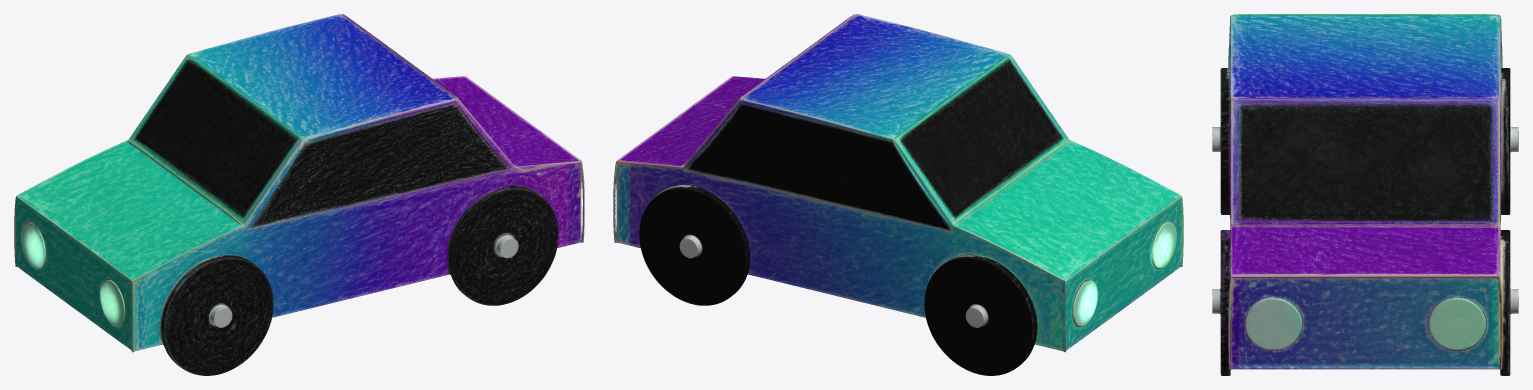
3 renders of one model, left to right at view 1: azimuth 30°, elevation 25°; view 2: azimuth 150°, elevation 25°; view 3: azimuth 270°, elevation 25°, orthographic. The views are drawn at different scales.
Bounding box in the file's own units: 1.9 × 0.8576 × 0.9621.
1 material, 1 textured.
